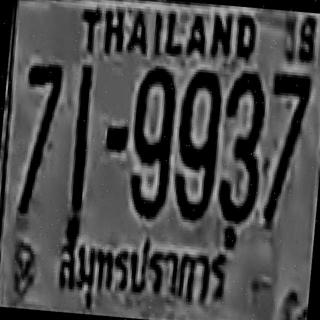N01: (68, 64, 93, 197)
N03: (214, 69, 266, 222)
N07: (14, 59, 62, 215), (261, 72, 310, 220), (15, 61, 62, 201), (18, 61, 63, 182), (21, 61, 63, 154)
N09: (125, 64, 177, 218), (170, 68, 221, 219)
P57: (48, 218, 235, 320)
